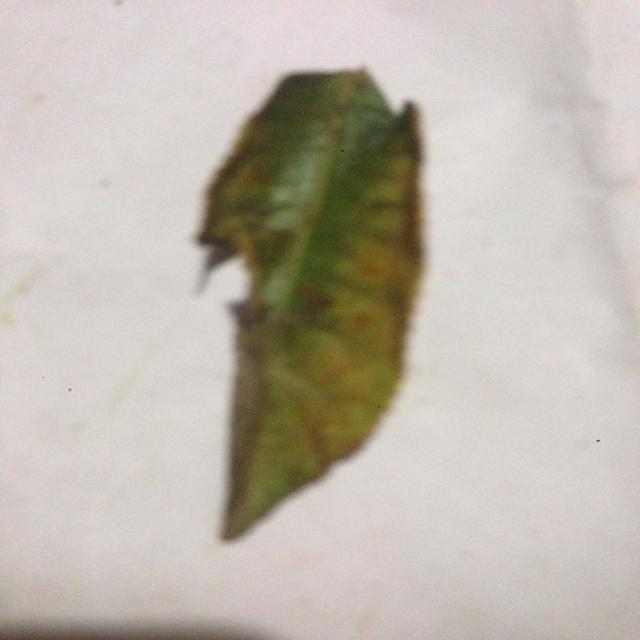Red Leaf Spot: (173, 61, 439, 544)
